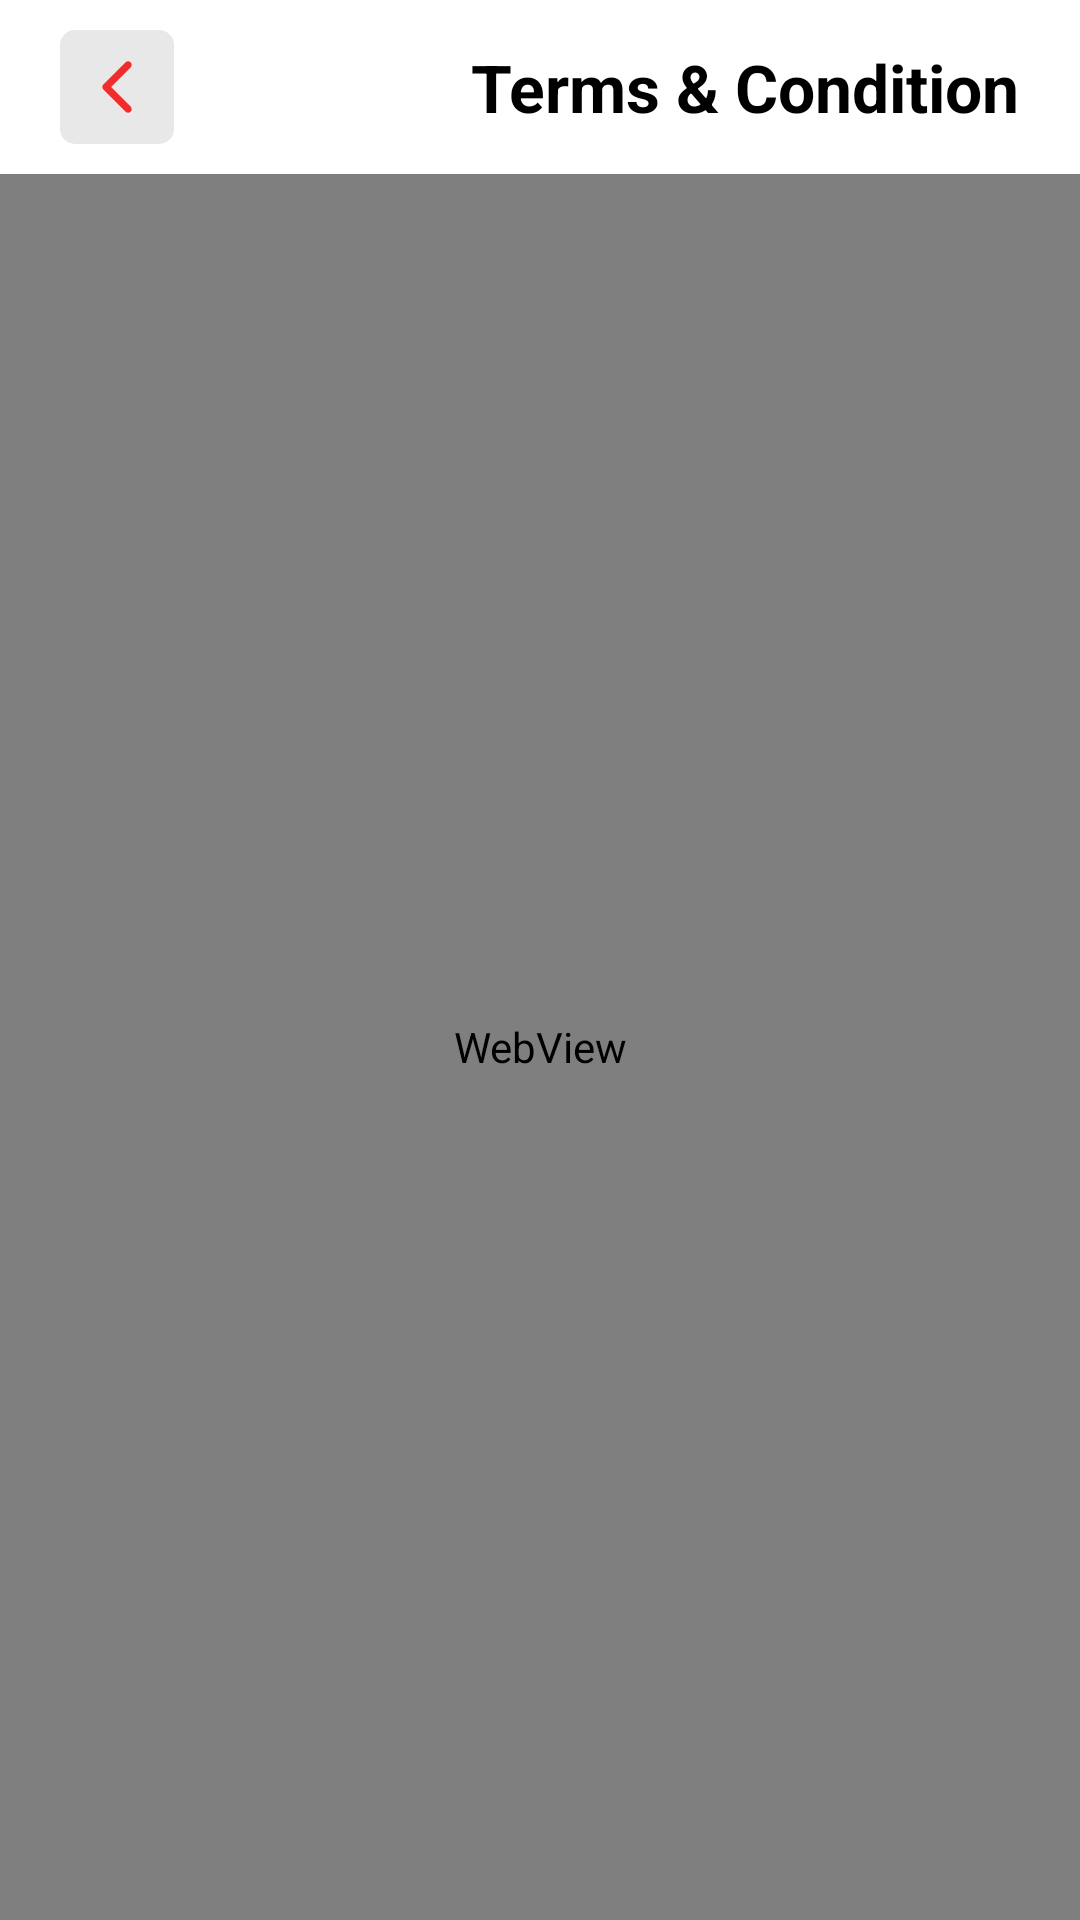

Screen size 1080 × 1920. Icon name, then its center in pixels as point (x, y):
arrow back: point (117, 87)
